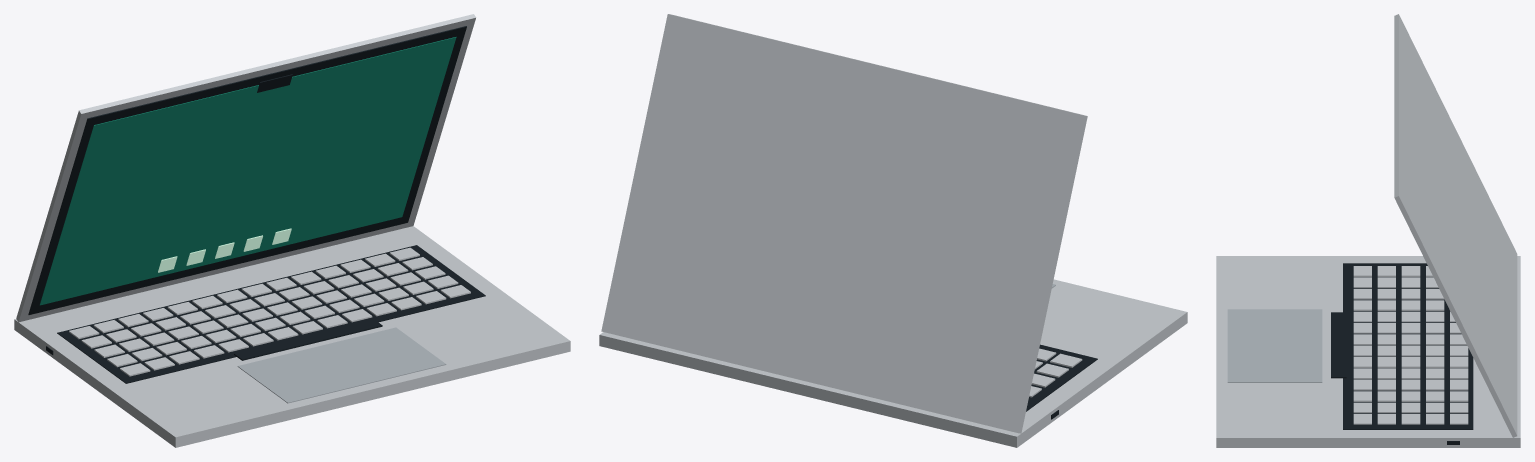
File: macbook-air-13-silver.glb
The picture shows the model from 3 angles, left to right: view 1: azimuth 30°, elevation 25°; view 2: azimuth 150°, elevation 25°; view 3: azimuth 270°, elevation 25°; orthographic projection. The views are drawn at different scales.
Visible parts, largest first — view 1: Screen, Base, Lid, Display_bezel, Keyboard_recess, Trackpad, Spacebar; view 2: Lid, Base, Keyboard_recess; view 3: Lid, Base, Keyboard_recess, Trackpad, Spacebar.
Boxes of the visible parts, bbox=[...] form: Screen: bbox=[40, 37, 456, 305]; Base: bbox=[14, 226, 570, 447]; Lid: bbox=[16, 14, 475, 322]; Display_bezel: bbox=[28, 26, 466, 314]; Keyboard_recess: bbox=[57, 245, 485, 383]; Trackpad: bbox=[237, 327, 446, 403]; Spacebar: bbox=[234, 319, 382, 360]; Lid: bbox=[601, 14, 1087, 433]; Base: bbox=[599, 279, 1187, 447]; Keyboard_recess: bbox=[1026, 344, 1097, 411]; Lid: bbox=[1394, 14, 1517, 437]; Base: bbox=[1216, 256, 1520, 447]; Keyboard_recess: bbox=[1343, 263, 1473, 429]; Trackpad: bbox=[1227, 309, 1322, 382]; Spacebar: bbox=[1331, 312, 1346, 378].
Bounding box in the file's own units: 0.3051 × 0.1963 × 0.215.
